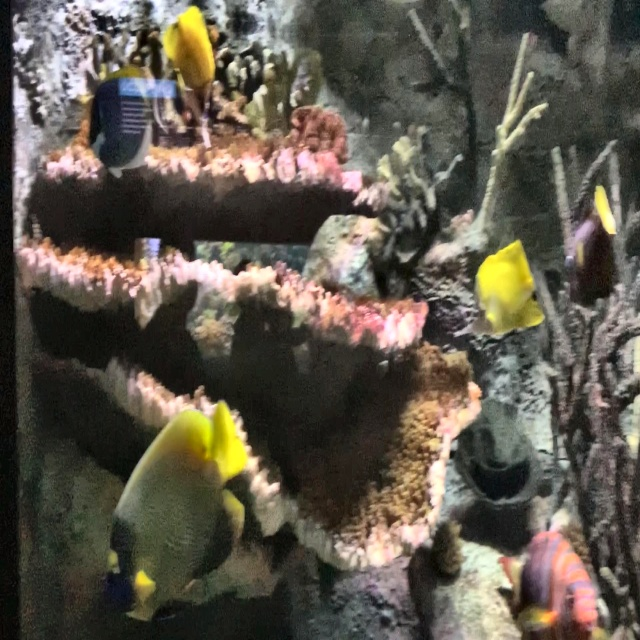fish: (107, 399, 248, 612), (497, 529, 598, 639), (86, 61, 179, 179), (471, 242, 545, 341), (159, 2, 218, 110), (562, 188, 616, 285)
